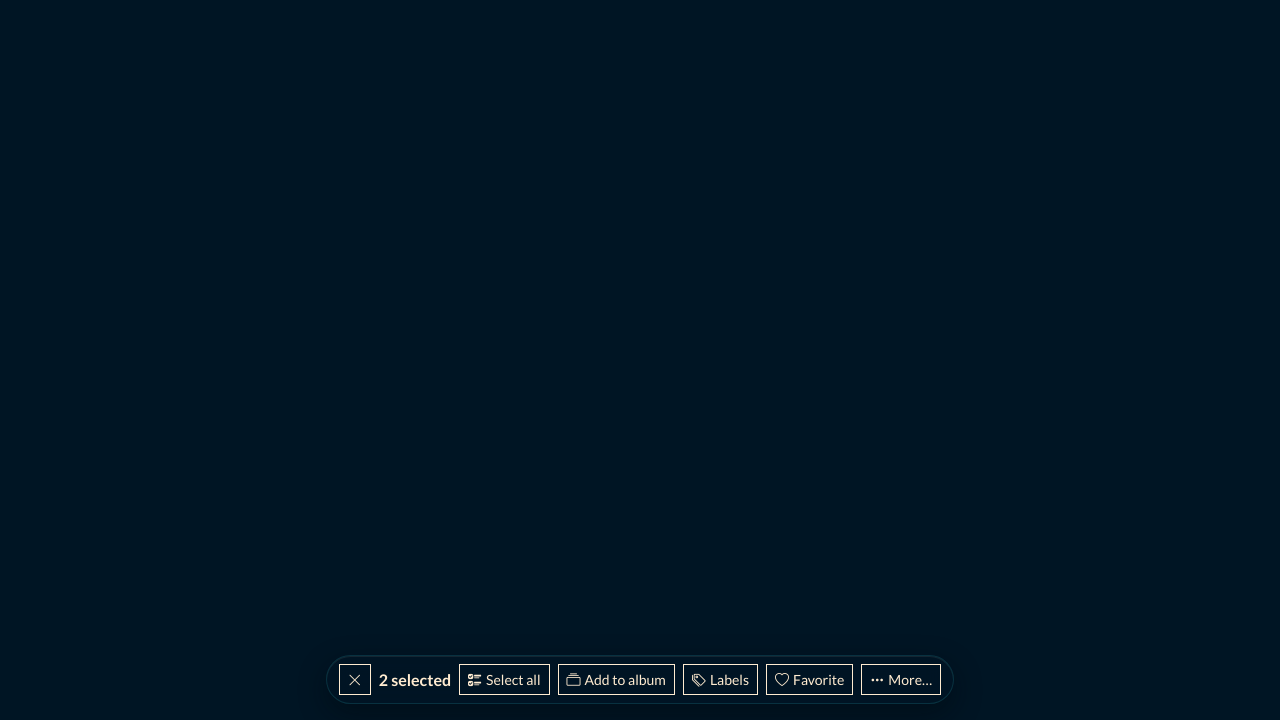
BatchActionBar for a curator › lets a curator create an album from the picker
Click the button "Add to album" at (616,680), box [558,664,675,695]
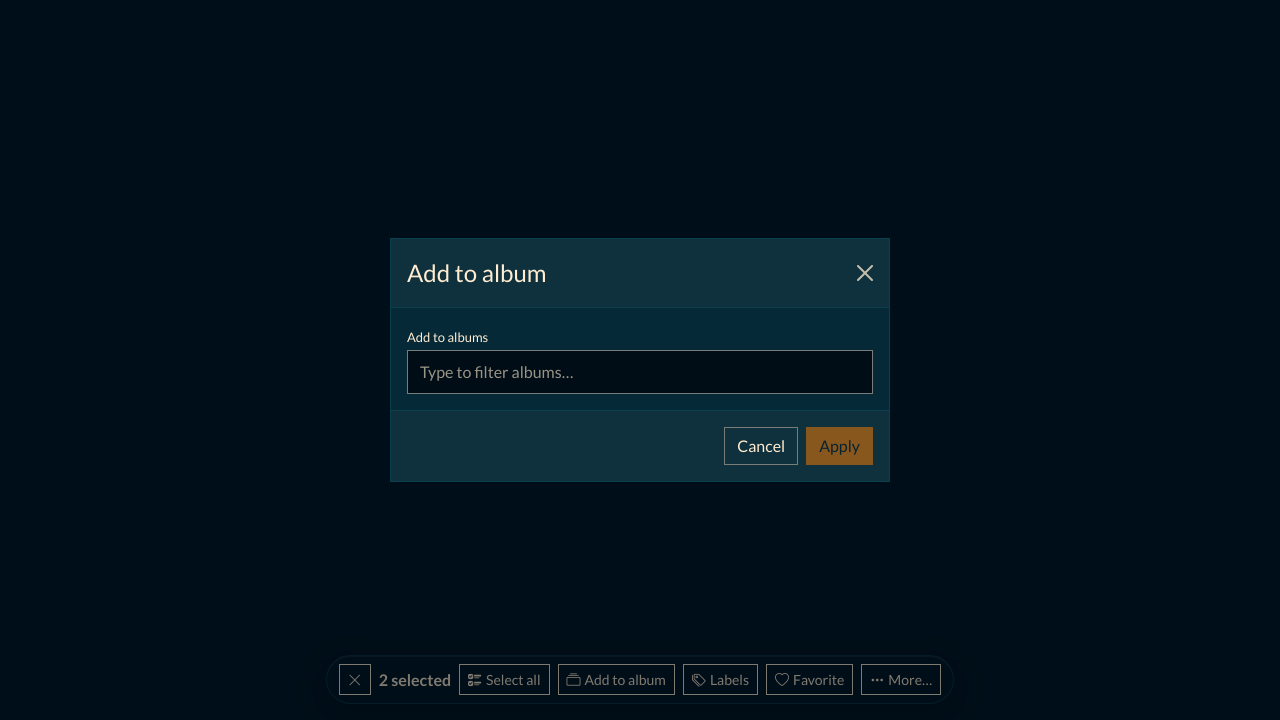
Type "Ostatky 2022" into the dropdown labelled "Add to albums" at (640,372), box [407,350,873,394]
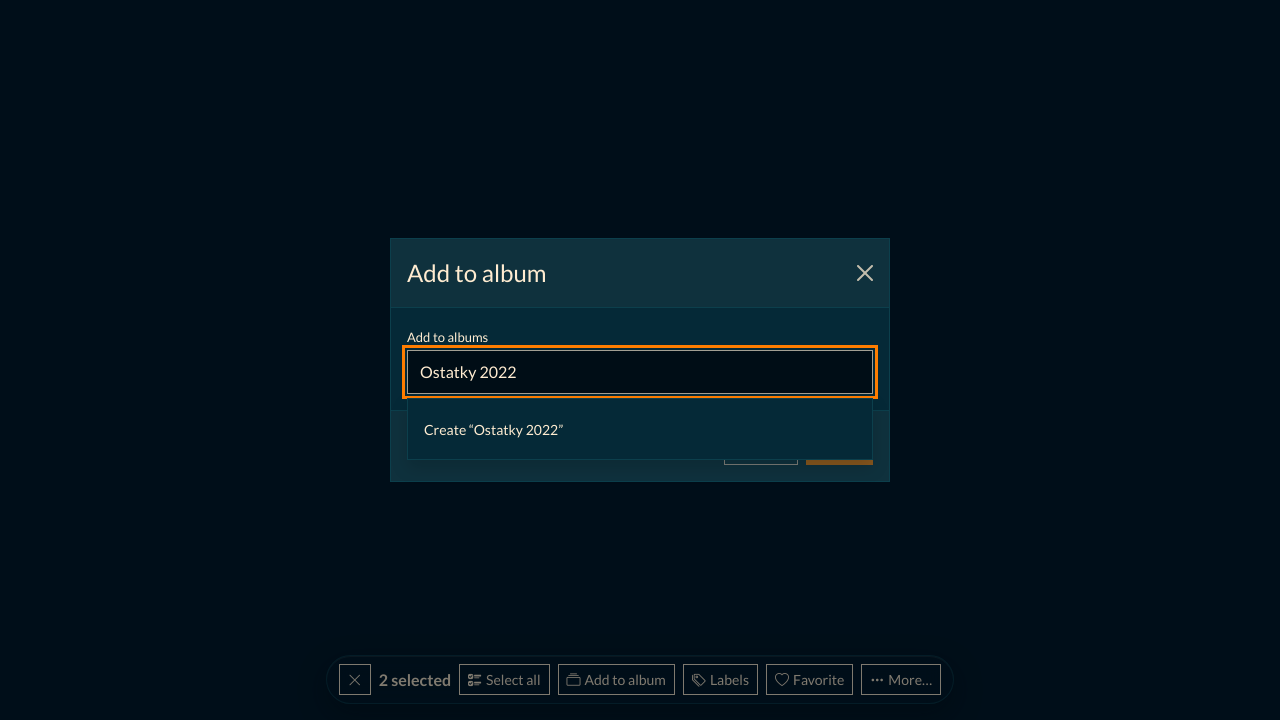
expect the option "Create “Ostatky 2022”" is shown: met, box [408,407,872,451]
